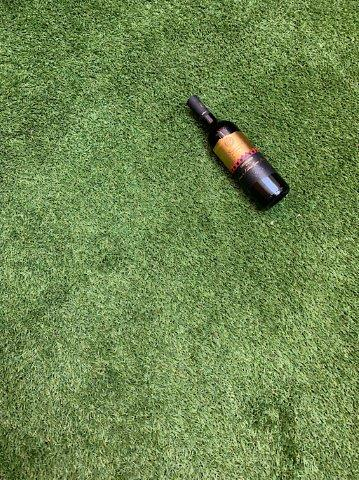botolkaca: (186, 95, 290, 211)
